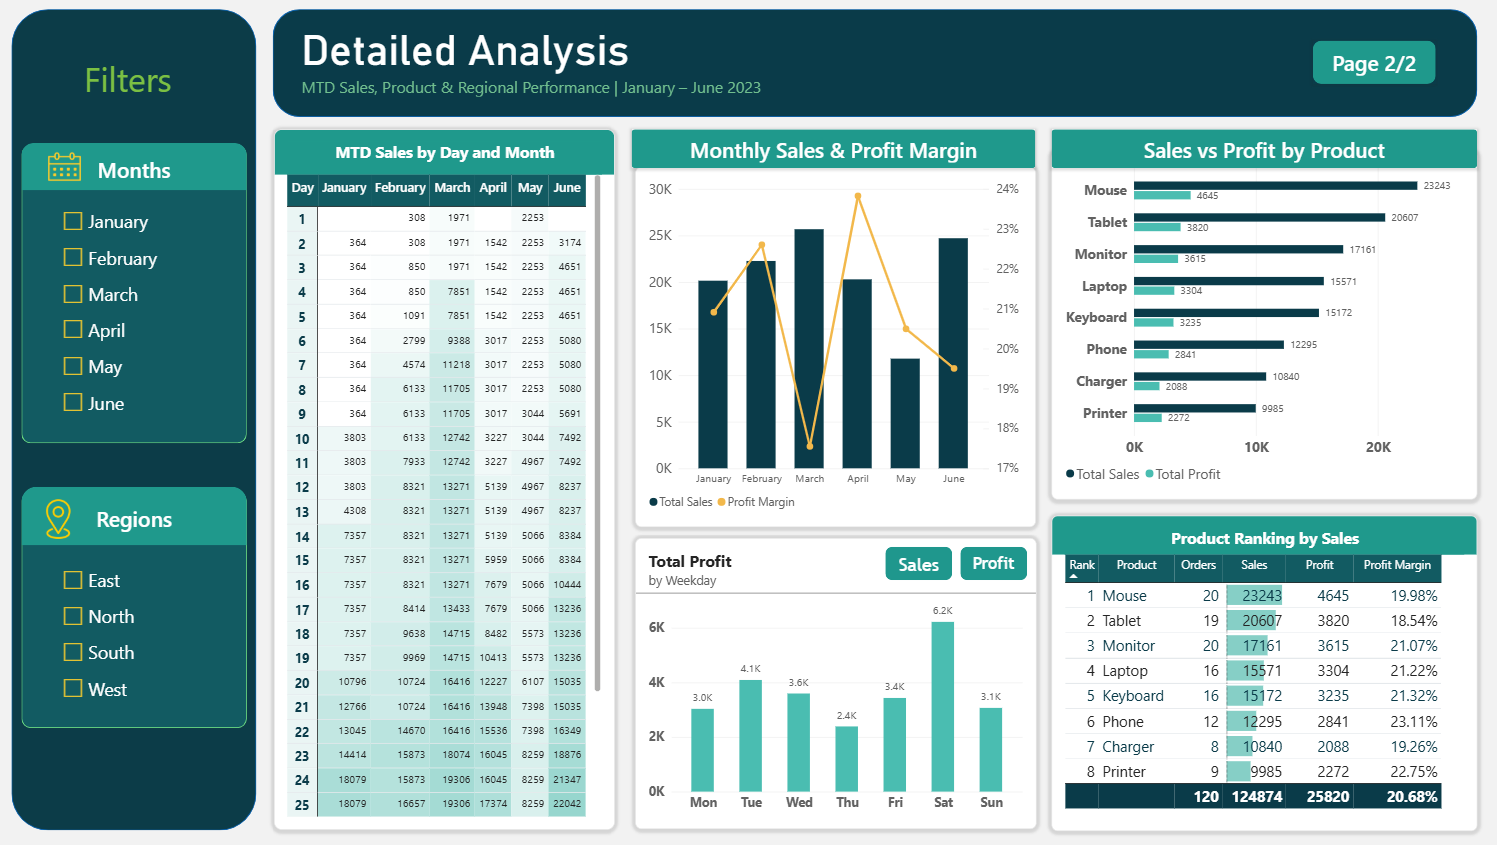

What the dashboard file says about the page in this screenshot:
{"tool":"powerbi","page":{"name":"Detailed","canvas":[1920,1080],"ordinal":1},"visuals":[{"type":"shape","box":[348.2,14.2,1529.5,136.8],"z":0},{"type":"group","id":"g1","title":"Group 1","box":[28.4,184.8,286,380.2],"z":0,"group":"g3"},{"type":"group","id":"g2","title":"Group 1","box":[28.4,620,286,460.1],"z":0,"group":"g4"},{"type":"shape","box":[16,14.2,310.9,1042.8],"z":1000},{"type":"image","box":[50,192,64,44],"z":1000,"group":"g3"},{"type":"image","box":[38,636,74,50],"z":1000,"group":"g4"},{"type":"textbox","box":[108.4,53.3,126,114],"z":2000},{"type":"textbox","title":"Detailed Analysis ","box":[383.7,35.5,932.6,97.7],"z":3000},{"type":"group","id":"g3","title":"Group 2","box":[28.4,184.8,286,380.2],"z":4000},{"type":"shape","box":[28.4,188.4,286,378],"z":4000,"group":"g1"},{"type":"shape","box":[29.2,625.9,286,300],"z":4000,"group":"g2"},{"type":"group","id":"g4","title":"Group 3","box":[28.4,620,286,460.1],"z":5000},{"type":"pivotTable","title":"MTD Sales by Day and Month","fields":{"Columns":["Calendar.Month name"],"Rows":["Calendar.Day"],"Values":["Retail_Sales.Total MTD"]},"box":[348.8,167.3,432.5,889.9],"z":6000},{"type":"shape","box":[28.4,184.8,286,60.4],"z":6000,"group":"g1"},{"type":"shape","box":[28.4,620,286,74.6],"z":6000,"group":"g2"},{"type":"lineClusteredColumnComboChart","title":"Monthly Sales & Profit Margin","fields":{"Category":["Calendar.Month name"],"Y":["Retail_Sales.Total Sales"],"Y2":["Retail_Sales.Profit Margin"]},"box":[808,213.6,509,457.4],"z":7000},{"type":"clusteredBarChart","fields":{"Category":["Retail_Sales.Product"],"Y":["Retail_Sales.Total Sales","Retail_Sales.Total Profit"]},"box":[1337,193.1,540.7,443.2],"z":8000},{"type":"slicer","fields":{"Values":["Calendar.Month name"]},"box":[74.4,260.4,156.3,294.9],"z":9000,"group":"g1"},{"type":"slicer","fields":{"Values":["Retail_Sales.Region"]},"box":[75.2,715.1,156.3,365.5],"z":9000,"group":"g2"},{"type":"shape","box":[803.7,167.4,513.1,49.7],"z":10000},{"type":"clusteredColumnChart","fields":{"Category":["Calendar.Weekday"],"Y":["Retail_Sales.Total Profit"]},"box":[807.4,686,509.4,369.7],"z":11000},{"type":"actionButton","box":[1125.7,696.6,85.1,42.6],"z":12000},{"type":"actionButton","box":[1220.3,696.6,85.1,42.6],"z":13000},{"type":"shape","box":[1337,167.4,540.7,49.7],"z":14000},{"type":"tableEx","title":"Product Ranking by Sales","fields":{"Values":["Retail_Sales.Sales Rank","Retail_Sales.Product","Retail_Sales.Total Orders","Retail_Sales.Total Sales","Retail_Sales.Total Profit","Retail_Sales.Profit Margin"]},"box":[1337,656.6,540.7,400.9],"z":15000},{"type":"shape","box":[1668,53.3,156.3,55.2],"z":16000}]}

Visuals, with their boxes in screenshot pixels (x1, y1, x2, y2), scaled from the page's 1920x1080 canvas onto the 1497x845 screenshot:
shape: <box>271,11,1464,118</box>
"Group 1" group: <box>22,145,245,442</box>
"Group 1" group: <box>22,485,245,844</box>
shape: <box>12,11,255,827</box>
image: <box>39,150,89,185</box>
image: <box>30,498,87,537</box>
textbox: <box>85,42,183,131</box>
"Detailed Analysis " textbox: <box>299,28,1026,104</box>
"Group 2" group: <box>22,145,245,442</box>
shape: <box>22,147,245,443</box>
shape: <box>23,490,246,724</box>
"Group 3" group: <box>22,485,245,844</box>
"MTD Sales by Day and Month" pivotTable: <box>272,131,609,827</box>
shape: <box>22,145,245,192</box>
shape: <box>22,485,245,543</box>
"Monthly Sales & Profit Margin" lineClusteredColumnComboChart: <box>630,167,1027,525</box>
clusteredBarChart - Retail_Sales.Product x Retail_Sales.Total Sales: <box>1042,151,1464,498</box>
slicer - Calendar.Month name: <box>58,204,180,434</box>
slicer - Retail_Sales.Region: <box>59,559,180,844</box>
shape: <box>627,131,1027,170</box>
clusteredColumnChart - Calendar.Weekday x Retail_Sales.Total Profit: <box>630,537,1027,826</box>
actionButton: <box>878,545,944,578</box>
actionButton: <box>951,545,1018,578</box>
shape: <box>1042,131,1464,170</box>
"Product Ranking by Sales" tableEx: <box>1042,514,1464,827</box>
shape: <box>1301,42,1422,85</box>
